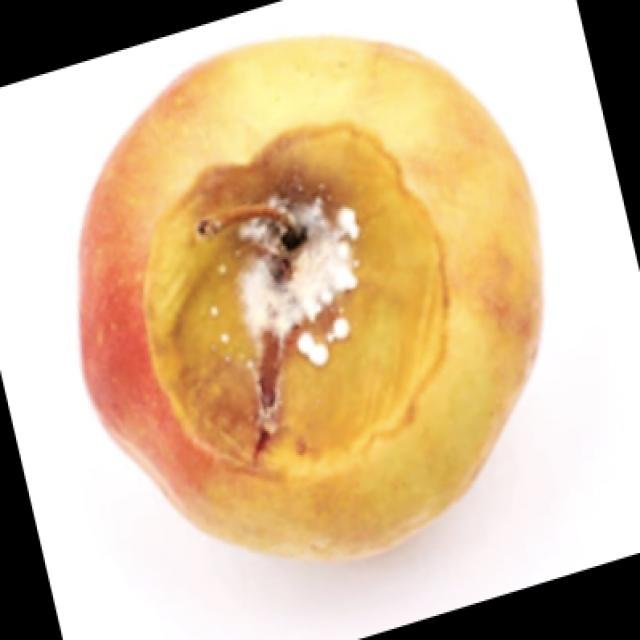Rotten: (83, 52, 537, 540)
